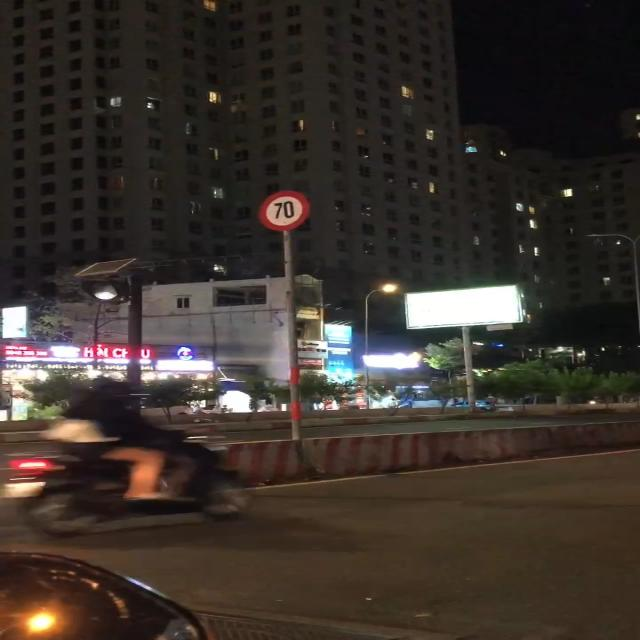Bien bao toc do toi da cho phep: (245, 187, 318, 234)
